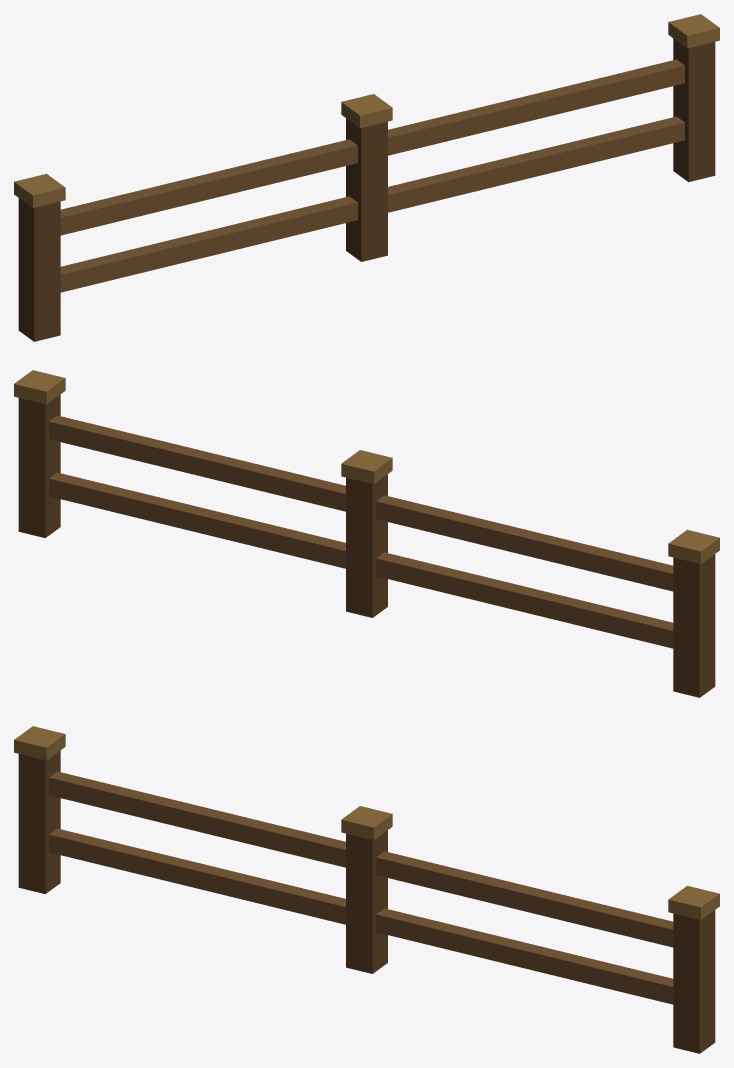
The model's file is greenhaven-fence.glb.
The picture shows the model from 3 angles, top to bottom: view 1: azimuth 30°, elevation 25°; view 2: azimuth 150°, elevation 25°; view 3: azimuth 330°, elevation 25°; orthographic projection.
Visible parts, largest first — view 1: Greenhaven_LowTimberFence; view 2: Greenhaven_LowTimberFence; view 3: Greenhaven_LowTimberFence.
Part boxes in pixels (box(x1,y1,x2,y2)): Greenhaven_LowTimberFence: box(14, 14, 719, 341); Greenhaven_LowTimberFence: box(14, 370, 719, 697); Greenhaven_LowTimberFence: box(14, 726, 719, 1053).
Size of the model in its own units: 5.67 by 1.17 by 0.27.
